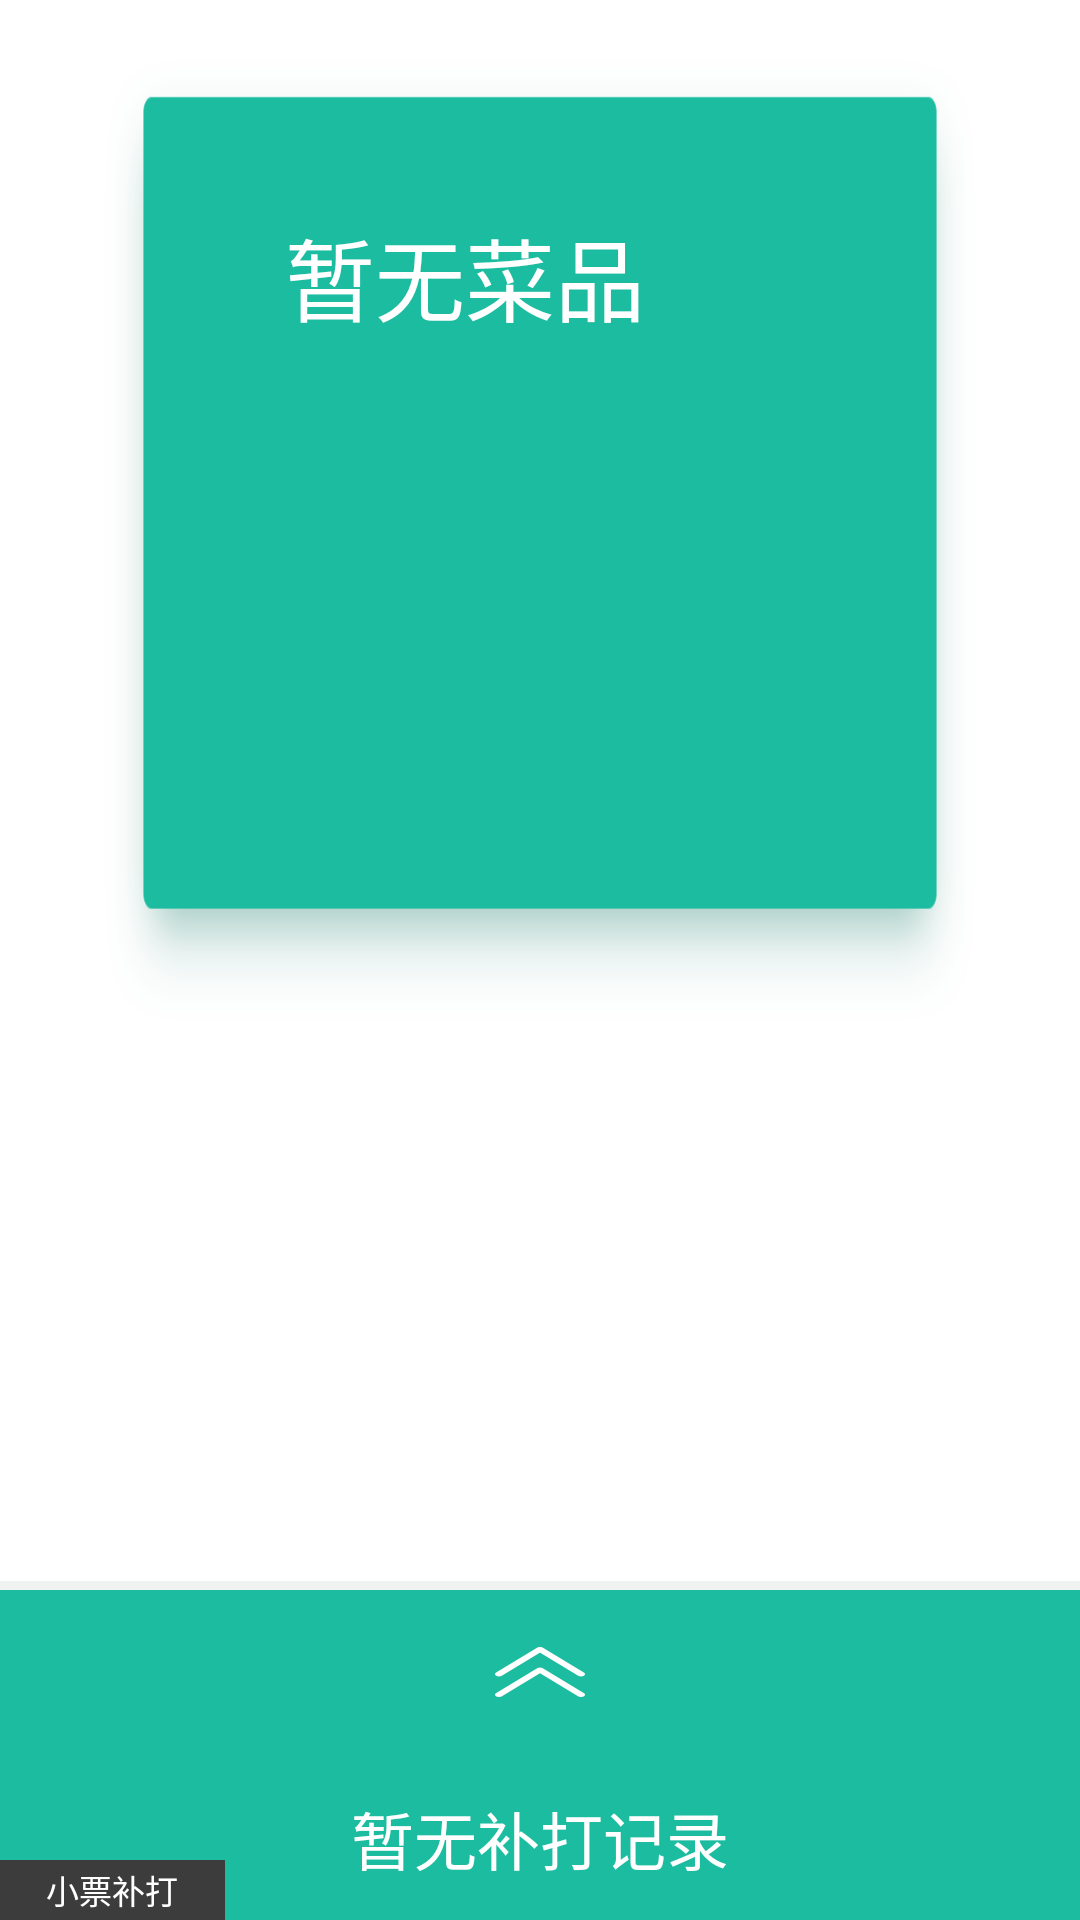

Named icons in this screenshot (1080w x 1920h) and their centers, [x,y]:
present unfold: [540,1672]
